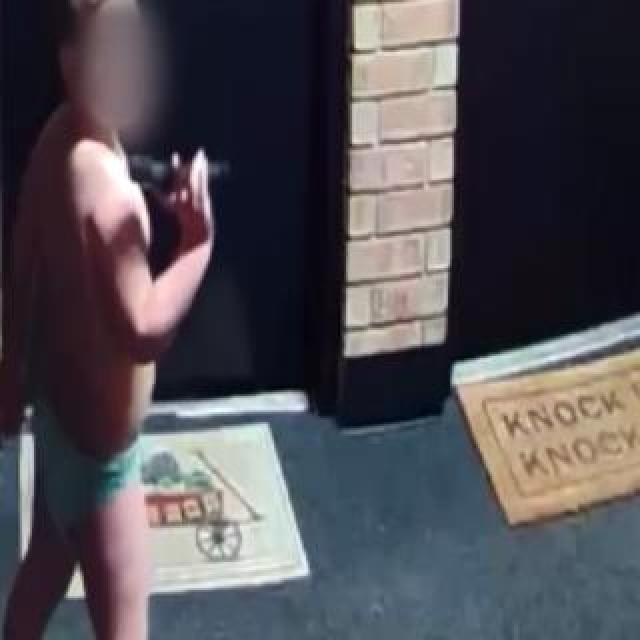Guns: (117, 135, 228, 206)
